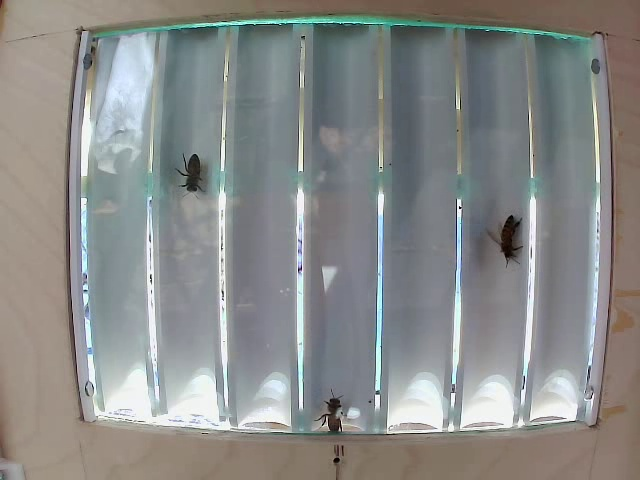bee: (487, 211, 522, 271), (171, 150, 202, 189)
